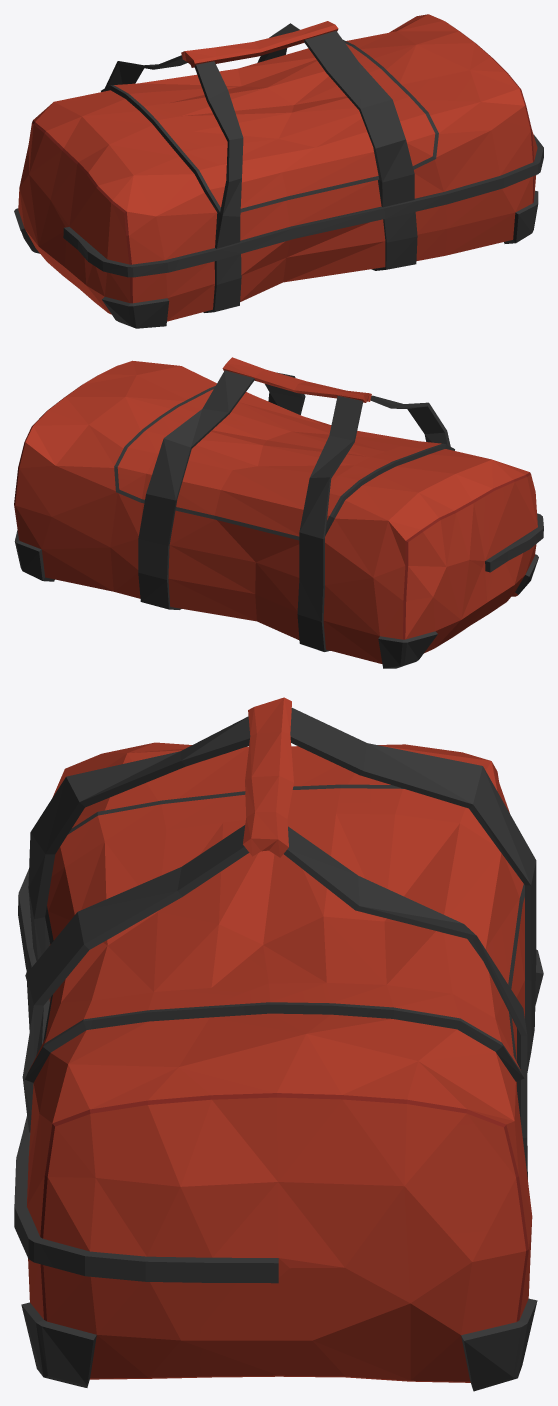
Rendered from Int_DuffelBag01_1.fbx.
The picture shows the model from 3 angles, top to bottom: view 1: azimuth 30°, elevation 25°; view 2: azimuth 150°, elevation 25°; view 3: azimuth 270°, elevation 25°; orthographic projection. The views are drawn at different scales.
Visible parts, largest first — view 1: Int_DuffelBag01_1; view 2: Int_DuffelBag01_1; view 3: Int_DuffelBag01_1.
Part boxes in pixels (bbox=[...]): Int_DuffelBag01_1: bbox=[14, 14, 543, 328]; Int_DuffelBag01_1: bbox=[14, 357, 543, 668]; Int_DuffelBag01_1: bbox=[14, 697, 543, 1391].
Size of what is drawn, in the model's own units: 75.52 by 39.43 by 36.39.
